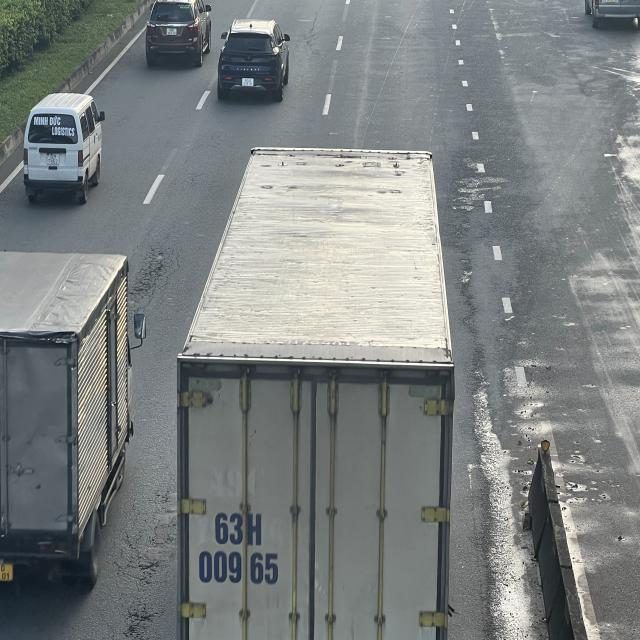car: (217, 21, 293, 104), (148, 0, 215, 65)
truck: (172, 142, 454, 640), (0, 253, 142, 596)
van: (24, 94, 107, 204)
